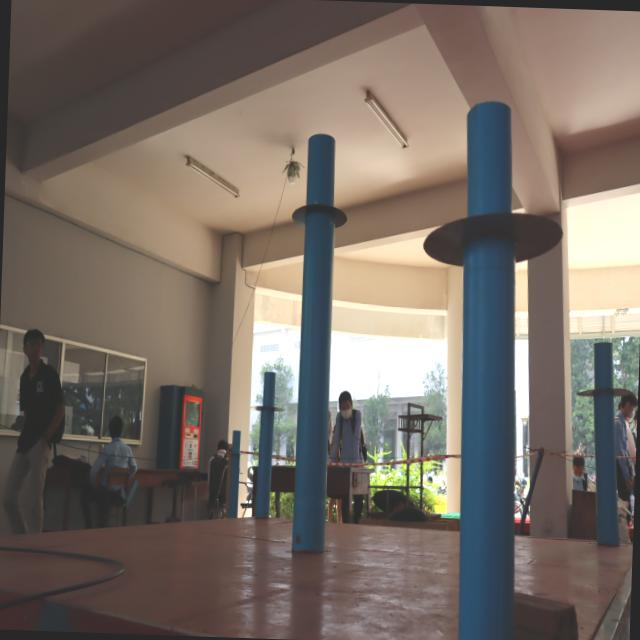pole: (416, 98, 567, 340), (287, 128, 356, 282), (573, 334, 629, 444), (248, 362, 292, 446)
